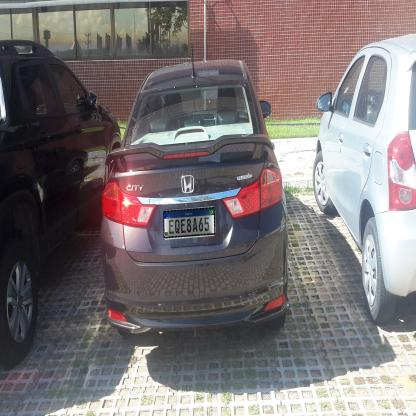PlacaM: (163, 207, 215, 238)
